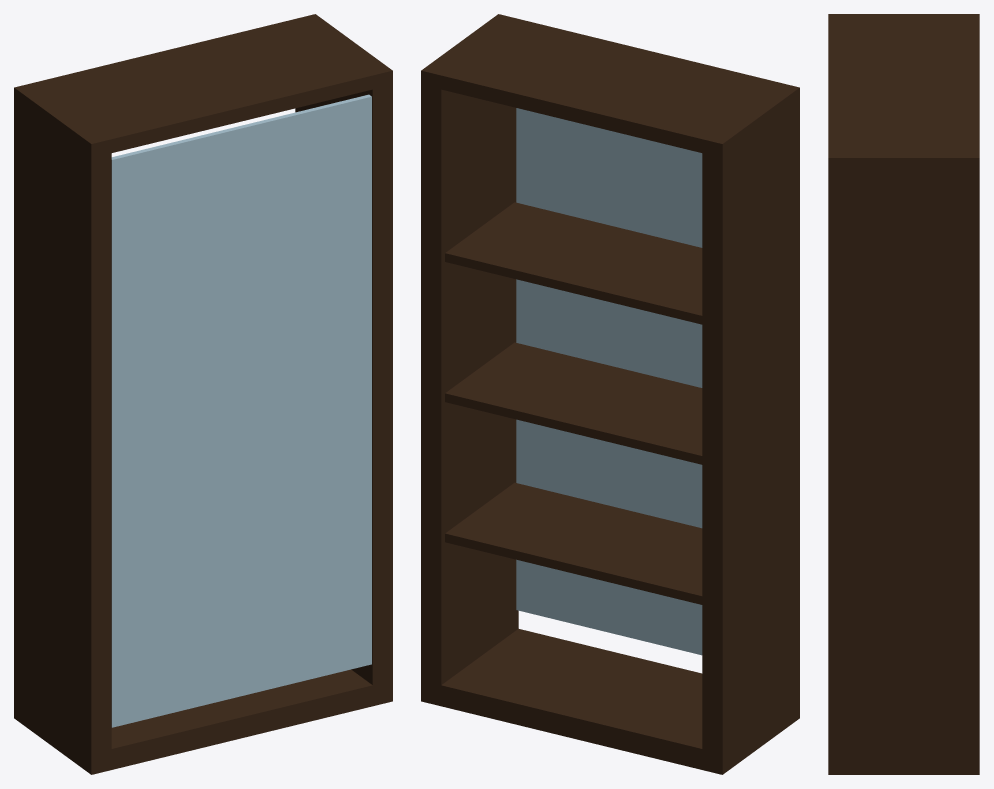
File: displaycabinet-lite.glb
3 renders of one model, left to right at view 1: azimuth 30°, elevation 25°; view 2: azimuth 150°, elevation 25°; view 3: azimuth 270°, elevation 25°, orthographic. The views are drawn at different scales.
Parts seen in each view (by area): view 1: material-1-glass, material-0-body; view 2: material-0-body, material-1-glass; view 3: material-0-body.
Part boxes in pixels (box(x1,y1,x2,y2)): material-1-glass: box(111, 94, 371, 727); material-0-body: box(14, 14, 392, 774); material-0-body: box(421, 14, 799, 774); material-1-glass: box(516, 108, 702, 655); material-0-body: box(828, 14, 979, 774).
Bounding box in the file's own units: 0.9 × 1.8 × 0.4.
